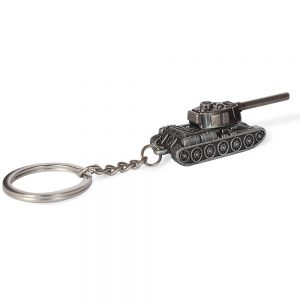Battle Tank: (156, 93, 291, 164)
